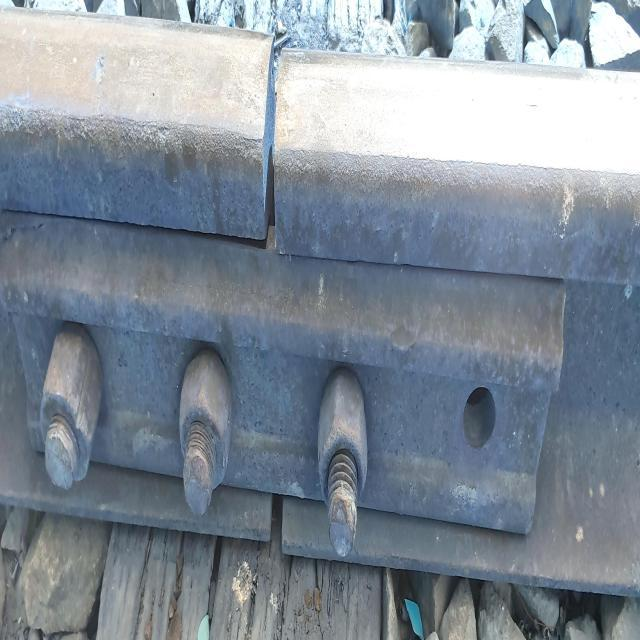Defective Joint: (13, 214, 581, 589)
